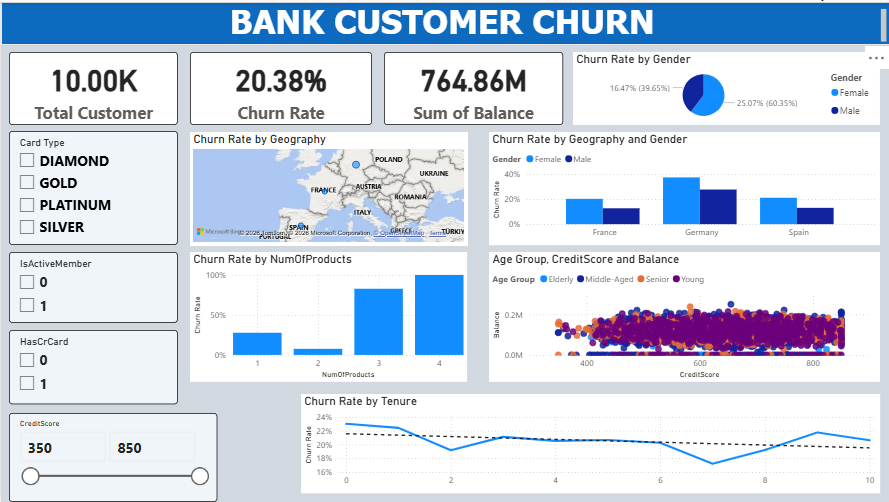

The dashboard page shown, as its layout file describes it:
{"tool":"powerbi","page":{"name":"Dashboard","canvas":[1280,720],"ordinal":0},"visuals":[{"type":"card","fields":{"Values":["Bank_Churn_Cleaned.Churn Rate"]},"box":[272.2,72,262.1,105.1],"z":0},{"type":"clusteredColumnChart","fields":{"Category":["Bank_Churn_Cleaned.NumOfProducts"],"Y":["Bank_Churn_Cleaned.Churn Rate"]},"box":[272.2,360,398.9,187.2],"z":1000},{"type":"lineChart","fields":{"Category":["Bank_Churn_Cleaned.Tenure"],"Y":["Bank_Churn_Cleaned.Churn Rate"]},"box":[432,564.5,833.8,142.6],"z":2000},{"type":"map","fields":{"Category":["Bank_Churn_Cleaned.Geography"],"Size":["Bank_Churn_Cleaned.Churn Rate"]},"box":[272.2,187.2,398.9,162.7],"z":3000},{"type":"pieChart","fields":{"Category":["Bank_Churn_Cleaned.Gender"],"Y":["Bank_Churn_Cleaned.Churn Rate"]},"box":[823.7,72,442.1,105.1],"z":4000},{"type":"scatterChart","fields":{"X":["Bank_Churn_Cleaned.CreditScore"],"Y":["Bank_Churn_Cleaned.Balance"],"Series":["Bank_Churn_Cleaned.Age Group"]},"box":[702.7,360,563,187.2],"z":5000},{"type":"clusteredColumnChart","fields":{"Category":["Bank_Churn_Cleaned.Geography Hierarchy.Geography","Bank_Churn_Cleaned.Geography Hierarchy.Age Group"],"Y":["Bank_Churn_Cleaned.Churn Rate"],"Series":["Bank_Churn_Cleaned.Gender"]},"box":[702.7,187.2,563,162.7],"z":6000},{"type":"card","fields":{"Values":["CountNonNull(Bank_Churn_Cleaned.CustomerId)"]},"box":[11.5,72,243.4,105.1],"z":7000},{"type":"card","fields":{"Values":["Sum(Bank_Churn_Cleaned.Balance)"]},"box":[551.5,72,257.8,105.1],"z":8000},{"type":"slicer","fields":{"Values":["Bank_Churn_Cleaned.Card Type"]},"box":[11.5,185.8,243.4,164.2],"z":9000},{"type":"slicer","fields":{"Values":["Bank_Churn_Cleaned.CreditScore"]},"box":[11.5,591.8,299.5,128.2],"z":10000},{"type":"slicer","fields":{"Values":["Bank_Churn_Cleaned.HasCrCard"]},"box":[11.5,472.3,243.4,106.6],"z":11000},{"type":"slicer","fields":{"Values":["Bank_Churn_Cleaned.IsActiveMember"]},"box":[11.5,360,243.4,102.2],"z":12000},{"type":"textbox","box":[0,0,1280.2,61.9],"z":13000}]}

Visuals, with their boxes in screenshot pixels (x1, y1, x2, y2), scaled from the page's 1280x720 canvas onto the 889x502 screenshot:
card - Bank_Churn_Cleaned.Churn Rate: 189:50:371:123
clusteredColumnChart - Bank_Churn_Cleaned.NumOfProducts x Bank_Churn_Cleaned.Churn Rate: 189:251:466:382
lineChart - Bank_Churn_Cleaned.Tenure x Bank_Churn_Cleaned.Churn Rate: 300:394:879:493
map - Bank_Churn_Cleaned.Geography x Bank_Churn_Cleaned.Churn Rate: 189:131:466:244
pieChart - Bank_Churn_Cleaned.Gender x Bank_Churn_Cleaned.Churn Rate: 572:50:879:123
scatterChart - Bank_Churn_Cleaned.CreditScore x Bank_Churn_Cleaned.Balance: 488:251:879:382
clusteredColumnChart - Bank_Churn_Cleaned.Geography Hierarchy.Geography x Bank_Churn_Cleaned.Geography Hierarchy.Age Group: 488:131:879:244
card - CountNonNull(Bank_Churn_Cleaned.CustomerId): 8:50:177:123
card - Sum(Bank_Churn_Cleaned.Balance): 383:50:562:123
slicer - Bank_Churn_Cleaned.Card Type: 8:130:177:244
slicer - Bank_Churn_Cleaned.CreditScore: 8:413:216:501
slicer - Bank_Churn_Cleaned.HasCrCard: 8:329:177:404
slicer - Bank_Churn_Cleaned.IsActiveMember: 8:251:177:322
textbox: 0:0:888:43
